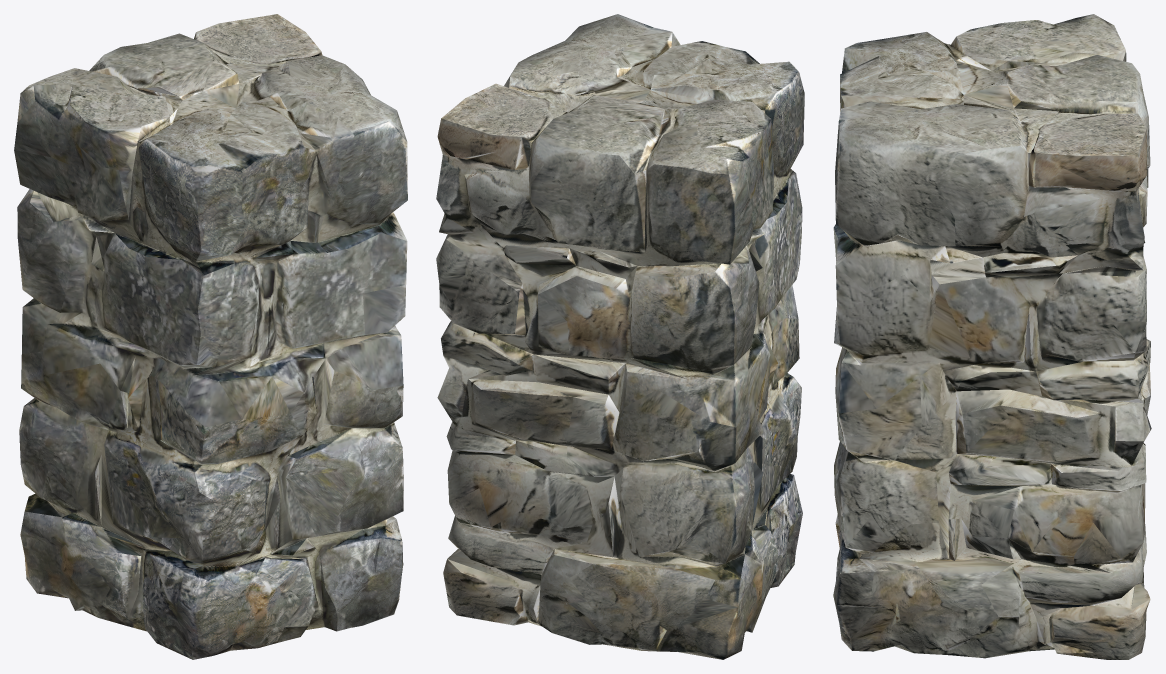
Rendered from StoneCorner.glb.
The picture shows the model from 3 angles, left to right: view 1: azimuth 30°, elevation 25°; view 2: azimuth 150°, elevation 25°; view 3: azimuth 270°, elevation 25°; orthographic projection. The views are drawn at different scales.
Parts seen in each view (by area): view 1: StoneCorner; view 2: StoneCorner; view 3: StoneCorner.
Part boxes in pixels (x1,y1,x2,y2): StoneCorner: (14, 14, 407, 659); StoneCorner: (436, 14, 804, 659); StoneCorner: (833, 14, 1151, 659).
Size of the model in its own units: 0.5894 by 1 by 0.557.
1 material, 1 textured.
